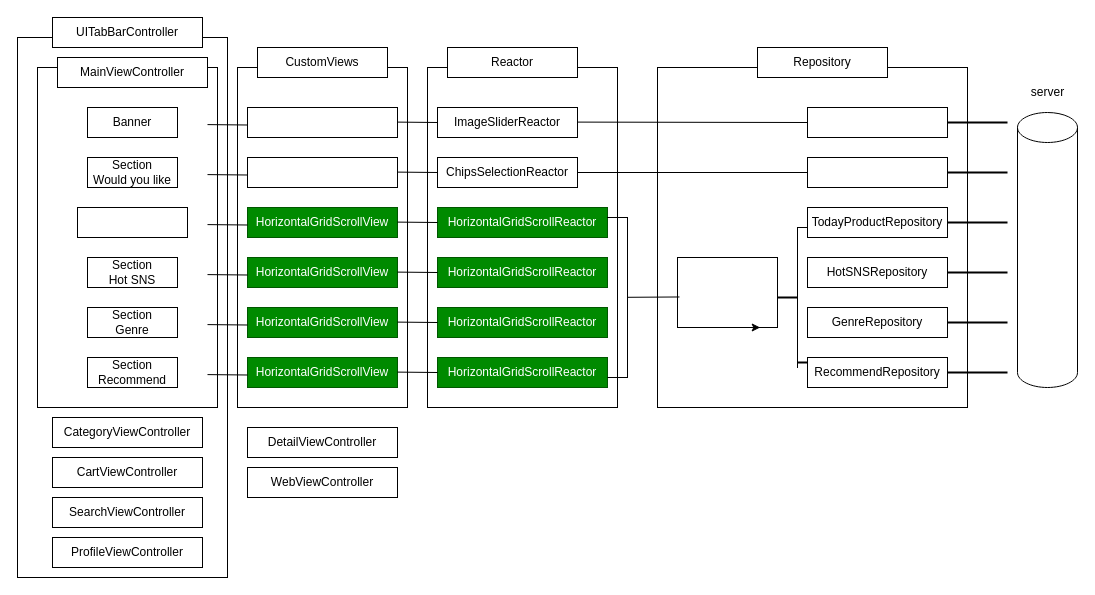
This 1095x595 diagram has some shape labels left out. The centre of each missing label's shape, as x and y in pixels:
"BannerRepository" belongs at pixel 877 122.
"ChipSectionView" belongs at pixel 322 172.
"ImageSliderView" belongs at pixel 322 122.
"PointRepository" belongs at pixel 877 172.
"ProductCommon Respository" belongs at pixel 727 292.
"Section Today Publishing" belongs at pixel 132 222.
